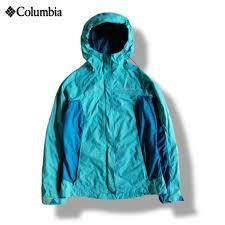sweater: (41, 13, 185, 204)
